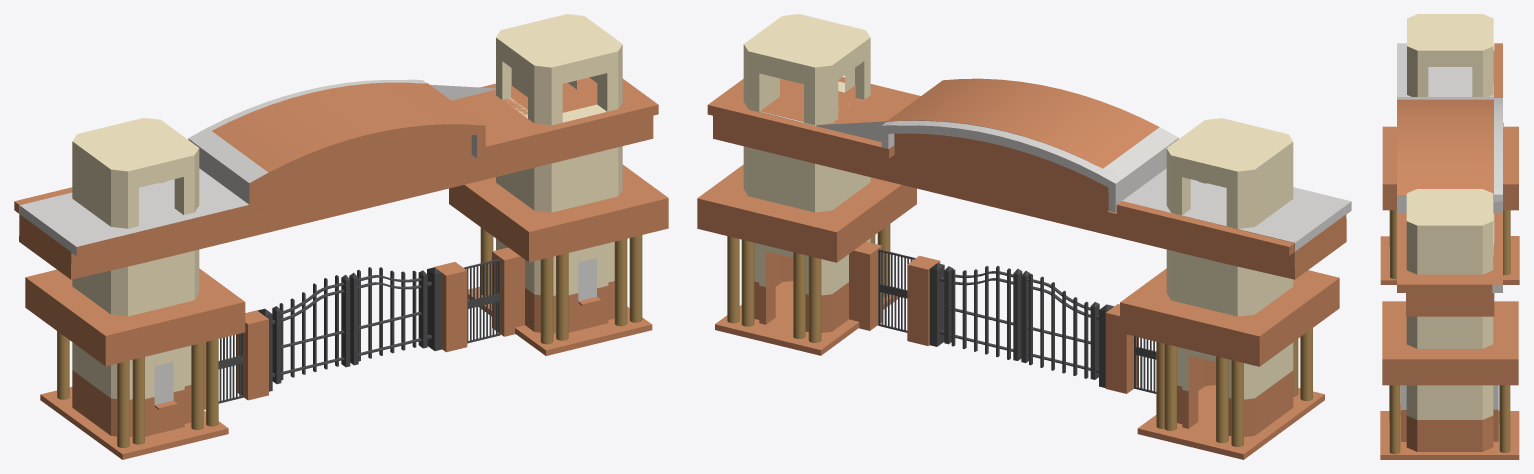
File: pillars3.obj
The picture shows the model from 3 angles, left to right: view 1: azimuth 30°, elevation 25°; view 2: azimuth 150°, elevation 25°; view 3: azimuth 270°, elevation 25°; orthographic projection. The views are drawn at different scales.
Parts seen in each view (by area): view 1: Mesh73 Model, Mesh78 Model, Mesh93 Model, Mesh82 Model, Mesh87 Model, Mesh92 Model, Mesh51 post6 gate_half2 Fence_Gate_Security_Pedestrian1 Model, Mesh84 Model, Mesh83 Model, Mesh86 Model, Mesh85 Model, Mesh74 Model (+9 smaller); view 2: Mesh73 Model, Mesh78 Model, Mesh87 Model, Mesh93 Model, Mesh82 Model, Mesh92 Model, Mesh51 post6 gate_half2 Fence_Gate_Security_Pedestrian1 Model, Mesh90 Model, Mesh88 Model, Mesh91 Model, Mesh79 Model, Mesh89 Model (+5 smaller); view 3: Mesh73 Model, Mesh87 Model, Mesh78 Model, Mesh84 Model, Mesh91 Model, Mesh74 Model.
Part boxes in pixels (bbox=[...]): Mesh73 Model: bbox=[14, 14, 668, 437]; Mesh78 Model: bbox=[40, 387, 228, 459]; Mesh93 Model: bbox=[492, 247, 524, 336]; Mesh82 Model: bbox=[236, 310, 268, 400]; Mesh87 Model: bbox=[468, 286, 652, 355]; Mesh92 Model: bbox=[434, 262, 467, 352]; Mesh51 post6 gate_half2 Fence_Gate_Security_Pedestrian1 Model: bbox=[427, 267, 442, 350]; Mesh84 Model: bbox=[629, 235, 642, 322]; Mesh83 Model: bbox=[614, 239, 627, 326]; Mesh86 Model: bbox=[540, 257, 553, 344]; Mesh85 Model: bbox=[556, 253, 568, 340]; Mesh74 Model: bbox=[206, 339, 218, 426]; Mesh73 Model: bbox=[697, 14, 1351, 436]; Mesh78 Model: bbox=[1137, 342, 1324, 459]; Mesh87 Model: bbox=[715, 281, 900, 355]; Mesh93 Model: bbox=[849, 242, 881, 330]; Mesh82 Model: bbox=[1105, 304, 1138, 393]; Mesh92 Model: bbox=[907, 255, 940, 345]; Mesh51 post6 gate_half2 Fence_Gate_Security_Pedestrian1 Model: bbox=[929, 263, 944, 346]; Mesh90 Model: bbox=[741, 239, 754, 326]; Mesh88 Model: bbox=[808, 256, 821, 342]; Mesh91 Model: bbox=[727, 236, 739, 323]; Mesh79 Model: bbox=[1231, 360, 1243, 446]; Mesh89 Model: bbox=[793, 252, 805, 338]; Mesh73 Model: bbox=[1382, 14, 1518, 451]; Mesh87 Model: bbox=[1380, 411, 1519, 459]; Mesh78 Model: bbox=[1380, 210, 1519, 284]; Mesh84 Model: bbox=[1389, 385, 1400, 454]; Mesh91 Model: bbox=[1499, 385, 1510, 452]; Mesh74 Model: bbox=[1390, 210, 1396, 279].
Bounding box in the file's own units: 16.05 × 7.2 × 3.91.
